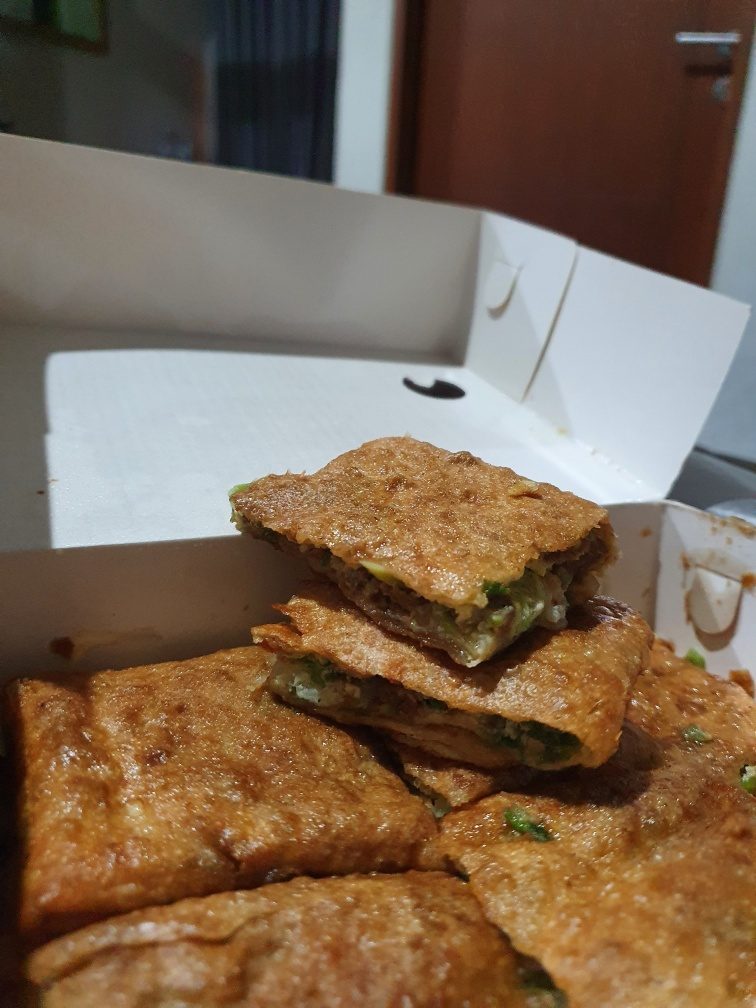martabak telor: (1, 634, 455, 896), (221, 415, 623, 659), (245, 562, 653, 773), (437, 732, 756, 998)
